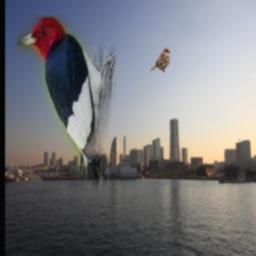Sparrow: (151, 48, 171, 72)
Woodpecker: (16, 17, 115, 191)
